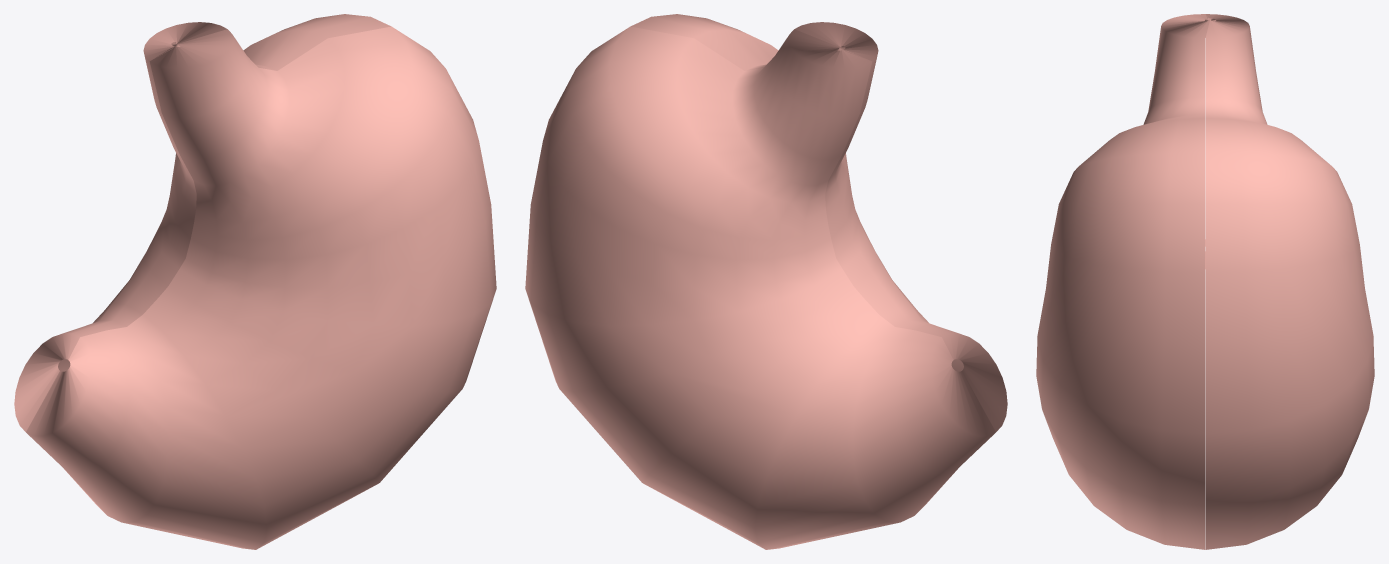
Rendered from stomach.fbx.
The picture shows the model from 3 angles, left to right: view 1: azimuth 30°, elevation 25°; view 2: azimuth 150°, elevation 25°; view 3: azimuth 270°, elevation 25°; orthographic projection. The views are drawn at different scales.
Parts seen in each view (by area): view 1: group_7; view 2: group_7; view 3: group_7.
Part boxes in pixels (<box>): group_7: <box>14,14,496,549</box>; group_7: <box>525,14,1007,549</box>; group_7: <box>1036,14,1374,549</box>.
Size of the model in its own units: 84.01 by 91.39 by 56.6.
